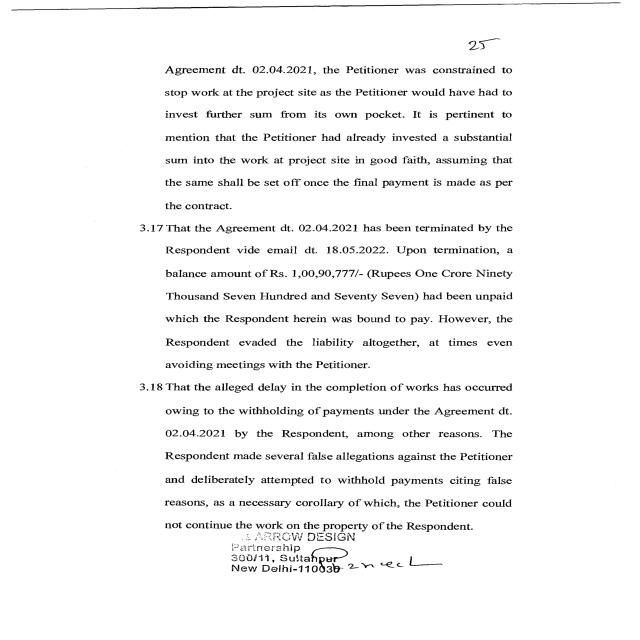page-number: (404, 2, 588, 60)
